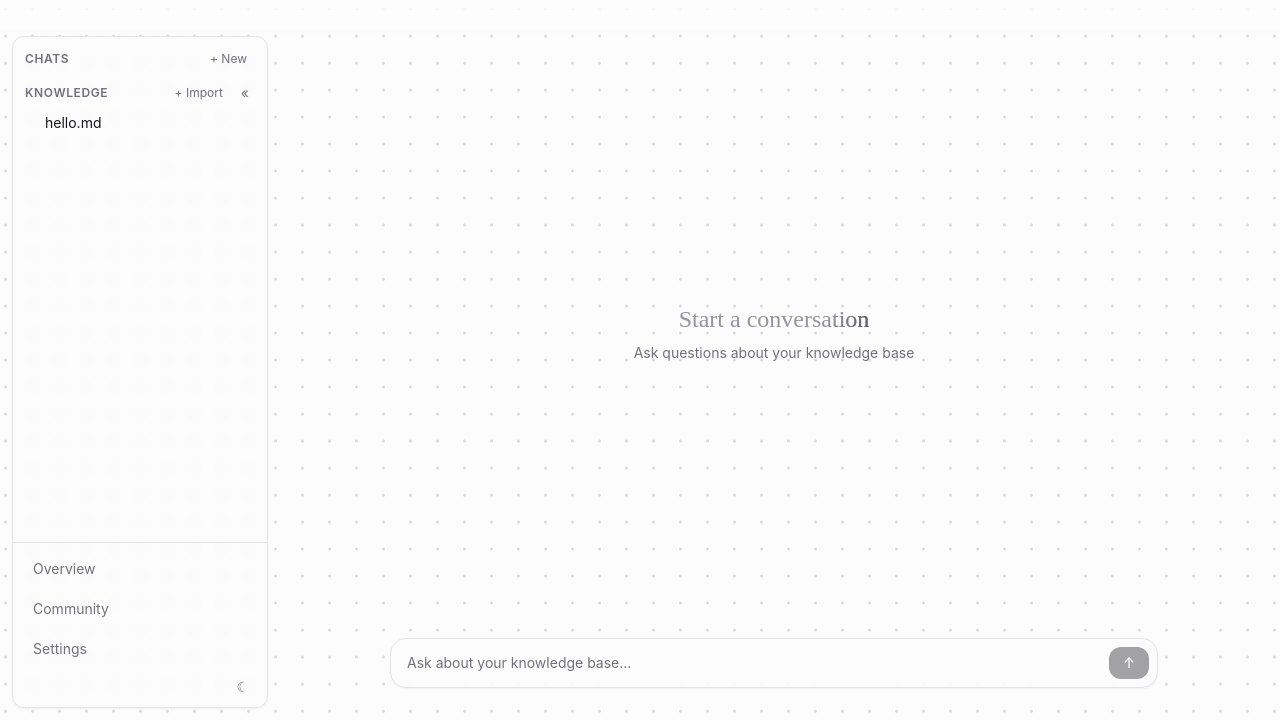
FileTree click → editor view wiring › clicking a file in the tree opens the MarkdownEditor
Click the text "hello.md": click(73, 123) [45,113,102,133]
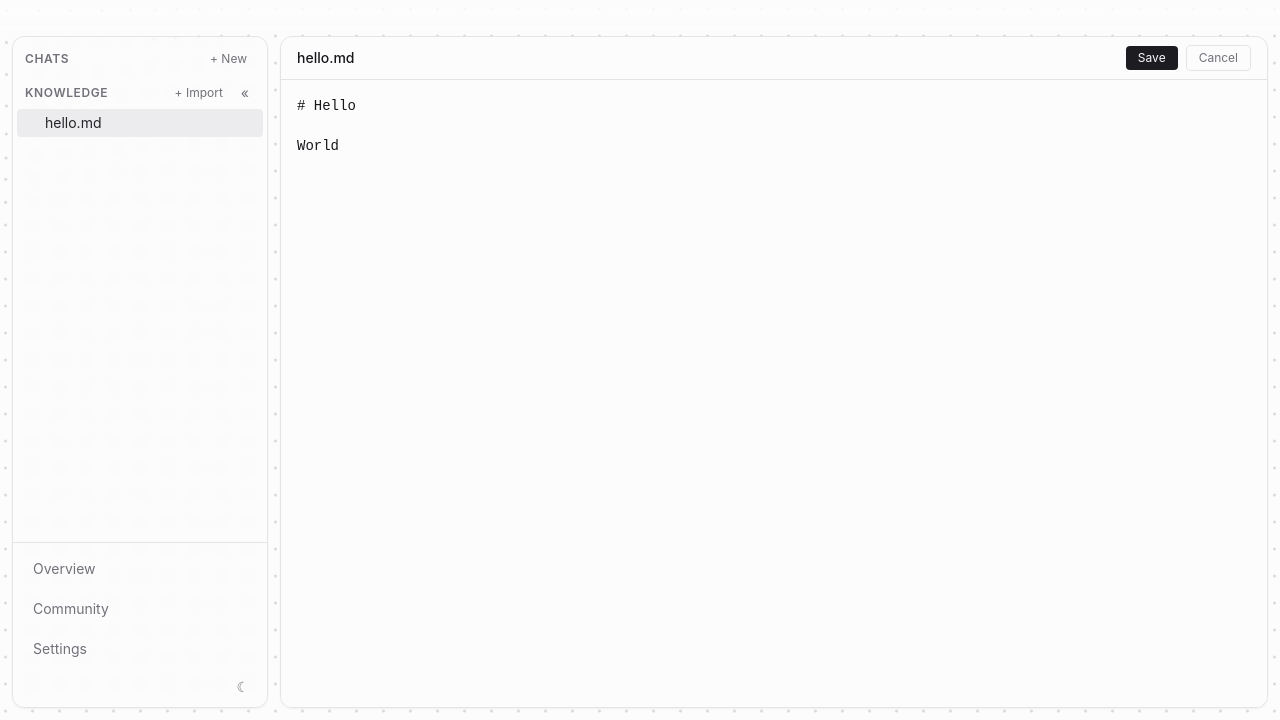
Check: the element with test id "markdown-editor" is shown
